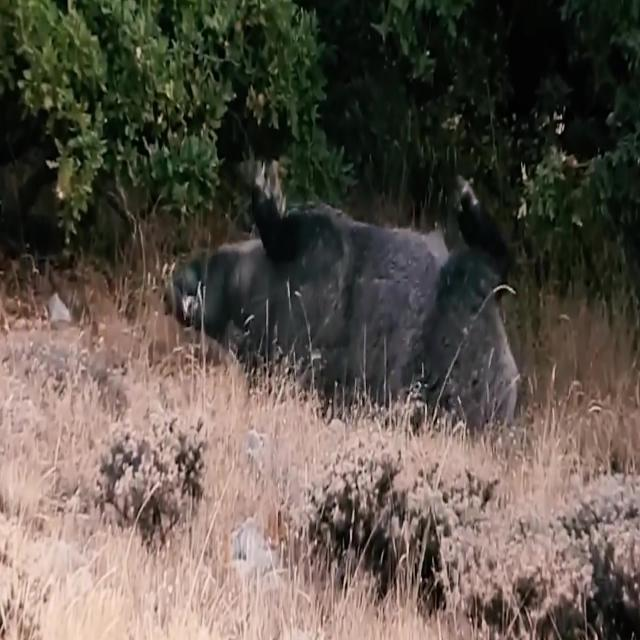pig: (159, 170, 537, 462)
